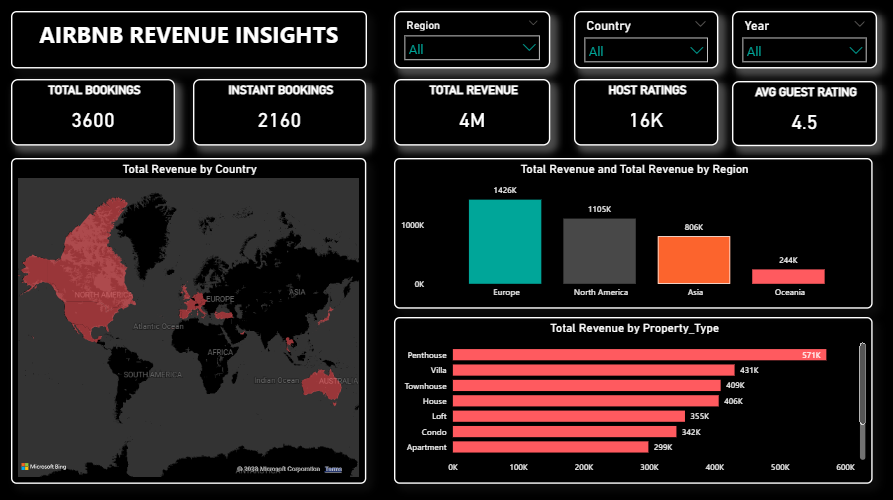

The dashboard page shown, as its layout file describes it:
{"tool":"powerbi","page":{"name":"AIRBNB REVENUE INSIGHTS","canvas":[1280,720],"ordinal":0},"visuals":[{"type":"card","title":"TOTAL BOOKINGS","fields":{"Values":["AIR_BNB.Total Bookings"]},"box":[17.9,116.2,234.2,94.7],"z":0},{"type":"card","title":"INSTANT BOOKINGS","fields":{"Values":["AIR_BNB.Instant Booking"]},"box":[278.9,116.2,246.7,94.7],"z":1},{"type":"card","title":"TOTAL REVENUE","fields":{"Values":["AIR_BNB.Total Revenue"]},"box":[564.9,116.2,223.5,94.7],"z":2},{"type":"card","title":"HOST RATINGS","fields":{"Values":["Sum(AIR_BNB.Guest_Rating)"]},"box":[822.3,116.2,205.6,94.7],"z":3},{"type":"card","title":"AVG GUEST RATING","fields":{"Values":["AIR_BNB.Avg Guest Rating"]},"box":[1047.6,118,207.4,93],"z":4},{"type":"slicer","fields":{"Values":["AIR_BNB.Region"]},"box":[564.9,17.9,223.5,82.2],"z":5},{"type":"slicer","fields":{"Values":["AIR_BNB.Country"]},"box":[822.3,17.9,205.6,82.2],"z":6},{"type":"slicer","fields":{"Values":["AIR_BNB.Booking_Date.Variation.Date Hierarchy.Year"]},"box":[1047.6,17.9,207.4,82.2],"z":7},{"type":"filledMap","fields":{"Category":["AIR_BNB.Country"]},"box":[18.6,228.3,506.6,465.2],"z":8},{"type":"columnChart","fields":{"Category":["AIR_BNB.Region"],"Y":["AIR_BNB.Total Revenue"]},"box":[564.9,228.8,682.9,214.5],"z":9},{"type":"clusteredBarChart","fields":{"Category":["AIR_BNB.Property_Type"],"Y":["AIR_BNB.Total Revenue"]},"box":[564.9,455.9,682.9,237.8],"z":10},{"type":"textbox","box":[17.9,17.9,507.7,82.2],"z":11}]}

Visuals, with their boxes in screenshot pixels (x1, y1, x2, y2), scaled from the page's 1280x720 canvas onto the 893x500 screenshot:
"TOTAL BOOKINGS" card: bbox=[12, 81, 176, 146]
"INSTANT BOOKINGS" card: bbox=[195, 81, 367, 146]
"TOTAL REVENUE" card: bbox=[394, 81, 550, 146]
"HOST RATINGS" card: bbox=[574, 81, 717, 146]
"AVG GUEST RATING" card: bbox=[731, 82, 876, 147]
slicer - AIR_BNB.Region: bbox=[394, 12, 550, 70]
slicer - AIR_BNB.Country: bbox=[574, 12, 717, 70]
slicer - AIR_BNB.Booking_Date.Variation.Date Hierarchy.Year: bbox=[731, 12, 876, 70]
filledMap - AIR_BNB.Country: bbox=[13, 159, 366, 482]
columnChart - AIR_BNB.Region x AIR_BNB.Total Revenue: bbox=[394, 159, 871, 308]
clusteredBarChart - AIR_BNB.Property_Type x AIR_BNB.Total Revenue: bbox=[394, 317, 871, 482]
textbox: bbox=[12, 12, 367, 70]
